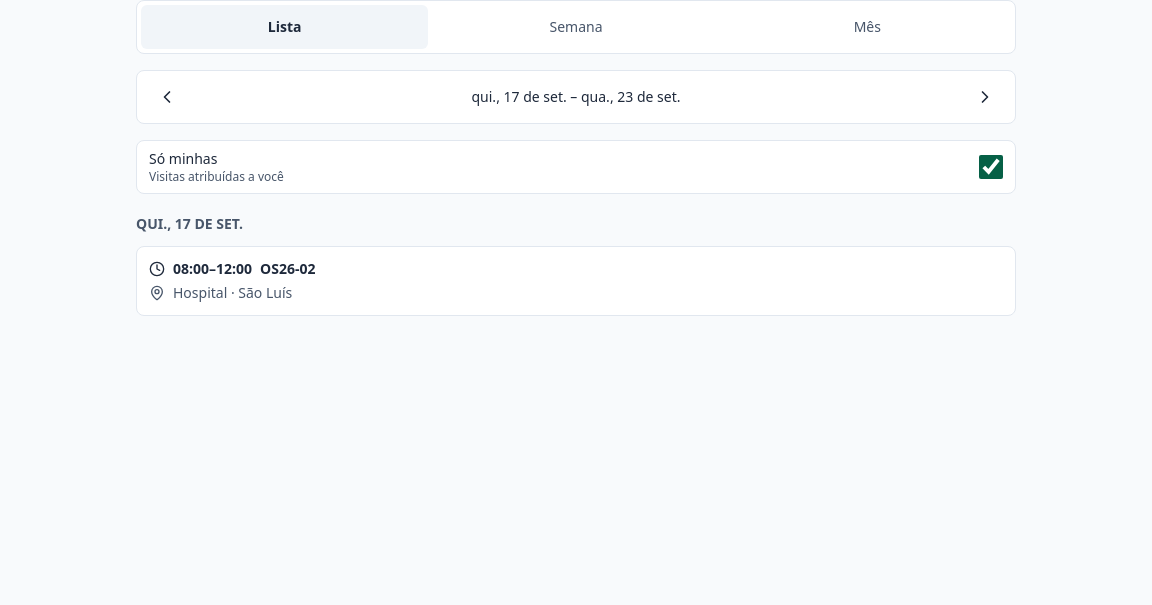
Test case: Modo Mês › selecionar "Mês" renderiza a grade e o cabeçalho com o nome do mês
Click the button "Mês": [867, 27] box [724,5,1011,49]
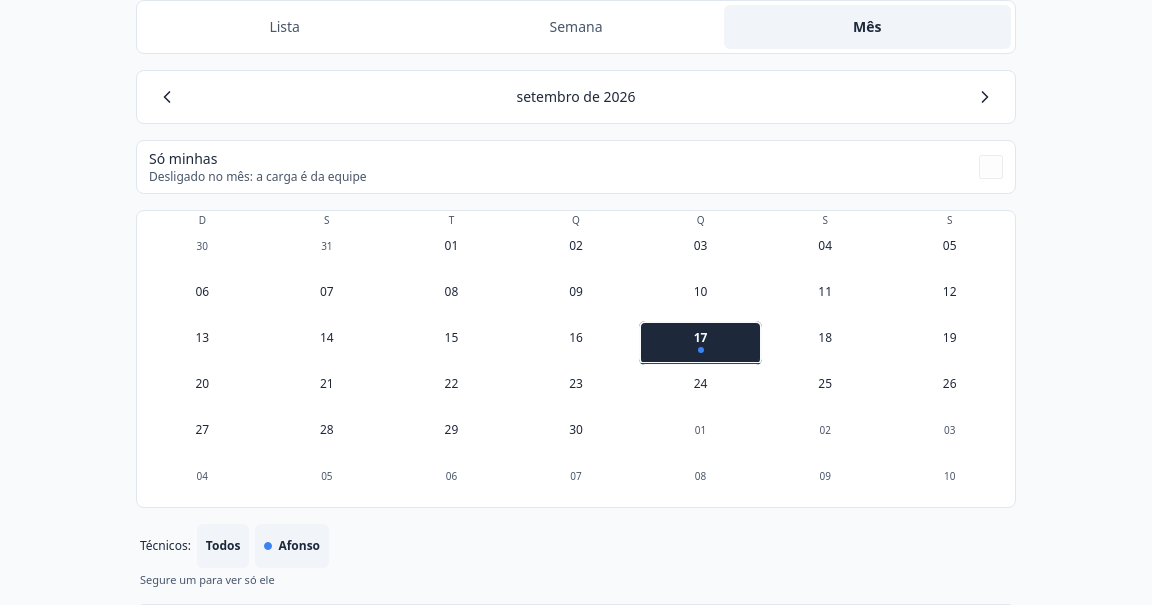
Check: the text "setembro de 2026" is shown, box [516,87,636,107]
Check: the number of buttons "30" is 42
